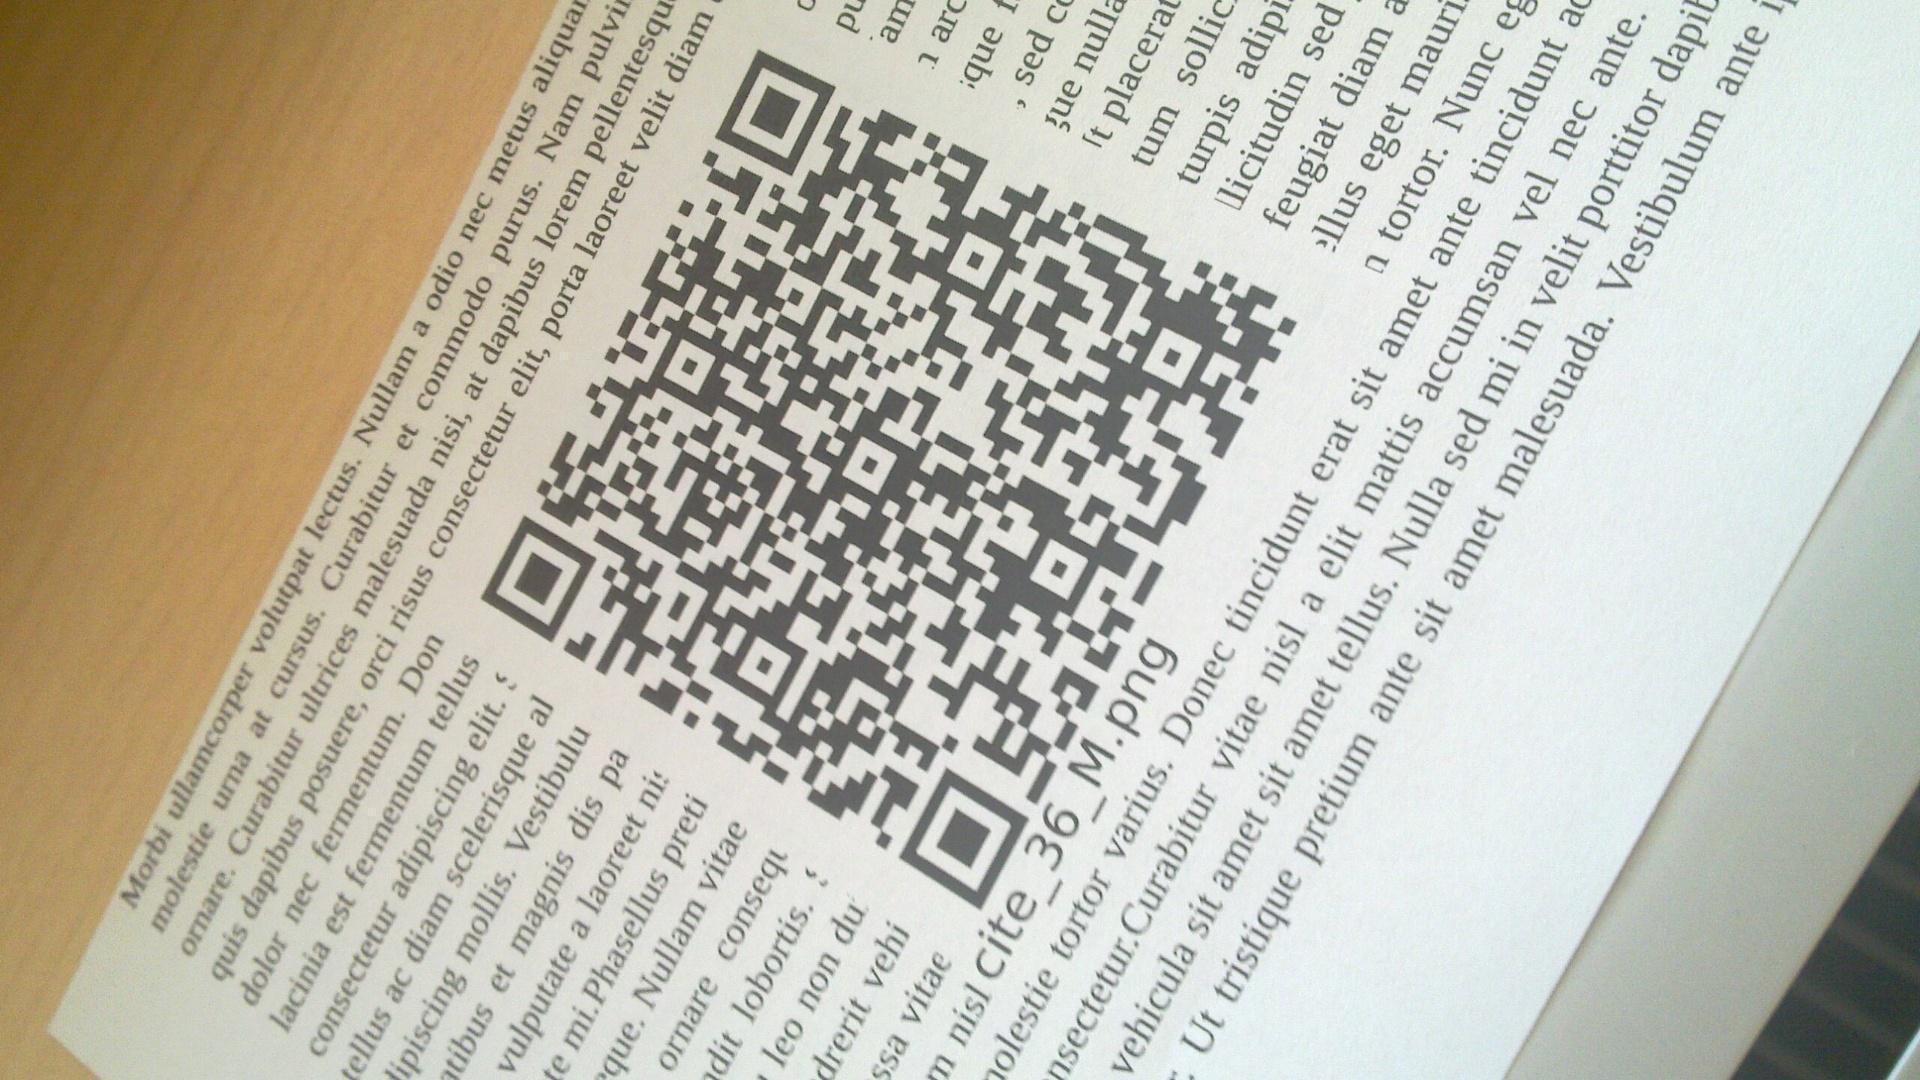qr_code: (479, 49, 1300, 913)
